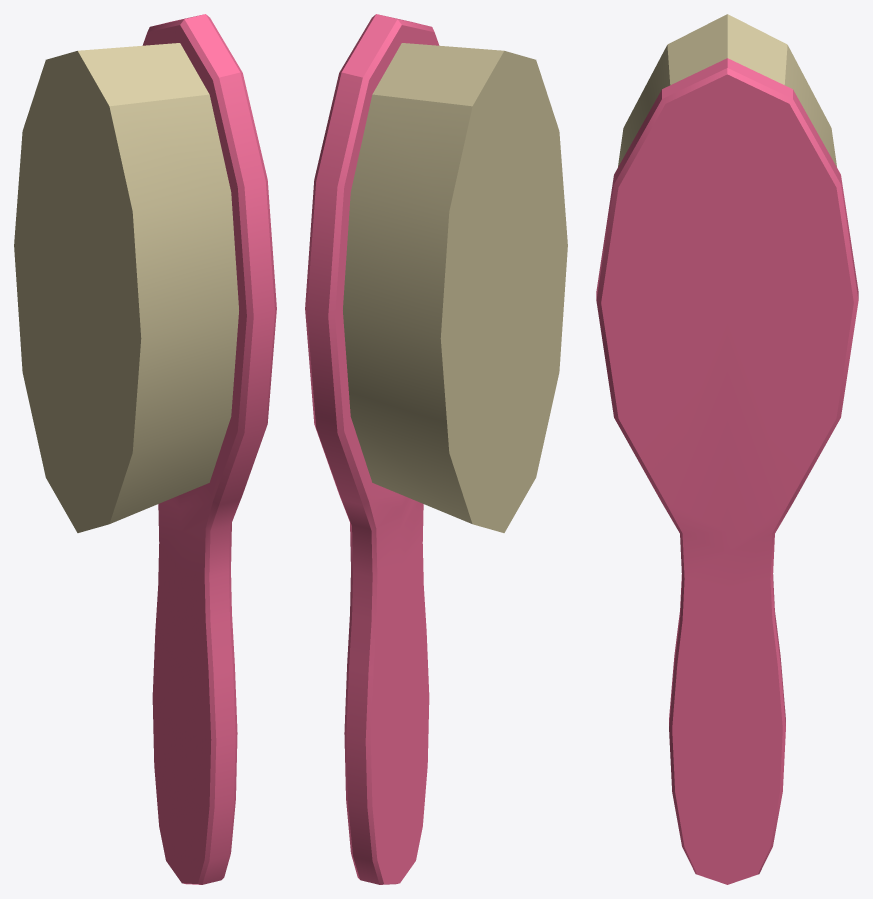
Rendered from Brosse.fbx.
The picture shows the model from 3 angles, left to right: view 1: azimuth 30°, elevation 25°; view 2: azimuth 150°, elevation 25°; view 3: azimuth 270°, elevation 25°; orthographic projection. The views are drawn at different scales.
Visible parts, largest first — view 1: Brosse; view 2: Brosse; view 3: Brosse.
Part boxes in pixels (x1,y1,x2,y2): Brosse: (14,14,276,884); Brosse: (305,14,567,884); Brosse: (596,14,858,884).
Bounding box in the file's own units: 3.82 × 23.84 × 6.93.
